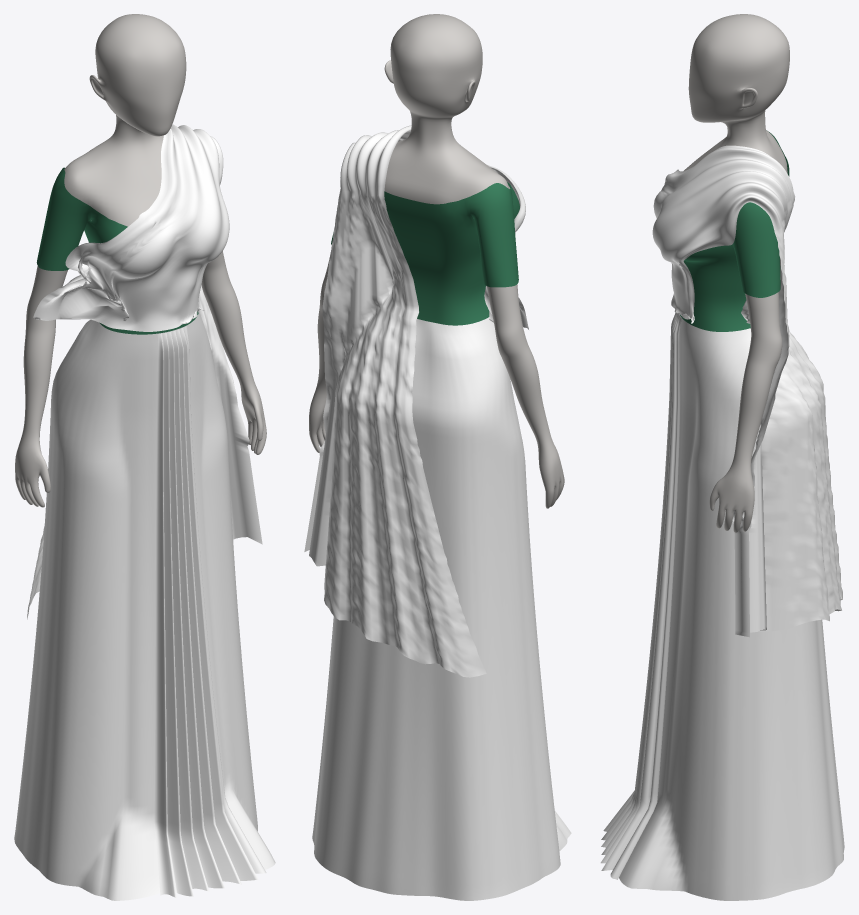
The model's file is saree_showroom.glb.
3 views of the same model, side by side, from view 1: azimuth 30°, elevation 25°; view 2: azimuth 150°, elevation 25°; view 3: azimuth 270°, elevation 25° (orthographic).
Visible parts, largest first — view 1: Saree, Mannequin, Blouse; view 2: Saree, Mannequin, Blouse; view 3: Saree, Mannequin, Blouse.
Part boxes in pixels (box(x1,y1,x2,y2)): Saree: box(14, 124, 275, 900); Mannequin: box(15, 14, 266, 507); Blouse: box(36, 167, 198, 334); Saree: box(304, 125, 571, 900); Mannequin: box(309, 14, 564, 508); Blouse: box(331, 182, 519, 325); Saree: box(600, 145, 844, 900); Mannequin: box(684, 14, 789, 532); Blouse: box(680, 130, 789, 331).
Bounding box in the file's own units: 0.5118 × 1.65 × 0.4379.
